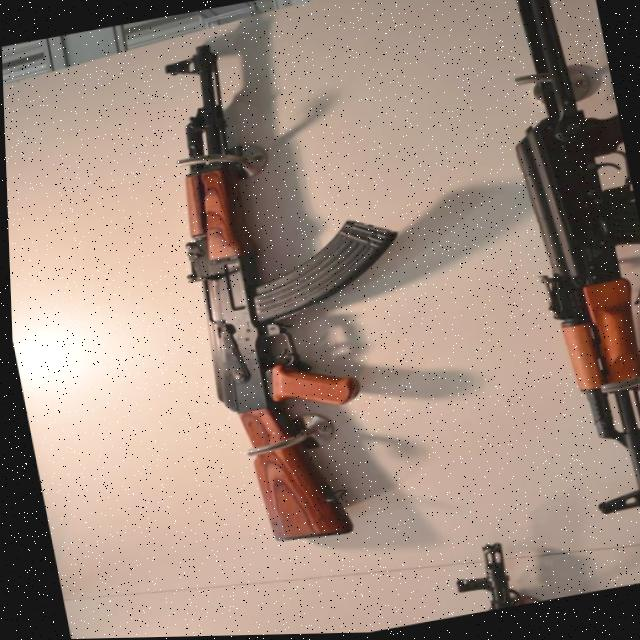firearm: (133, 14, 453, 559), (469, 0, 640, 544), (437, 541, 520, 619)
